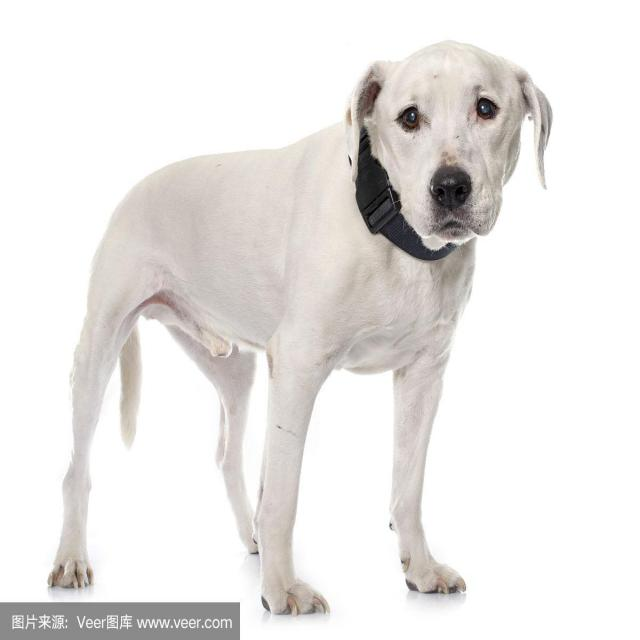eye: (393, 100, 426, 135), (474, 94, 501, 126)
